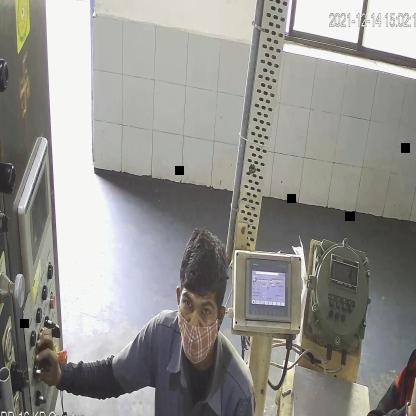no_goggles: (180, 287, 217, 322)
